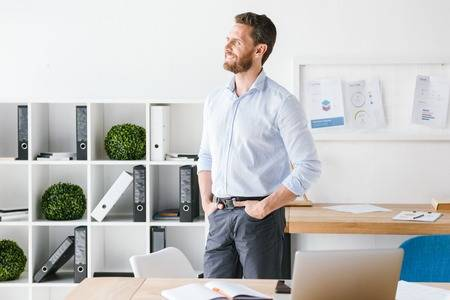F_shirt: (196, 69, 323, 200)
